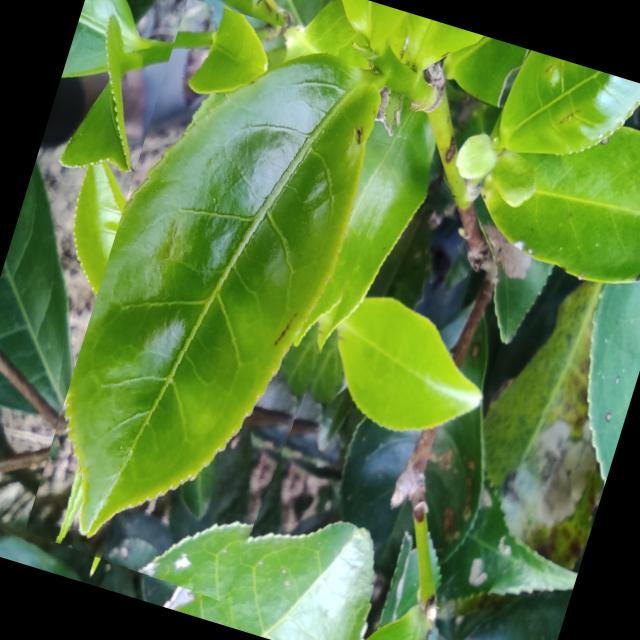Category B(2-4 days): (20, 0, 428, 614)
